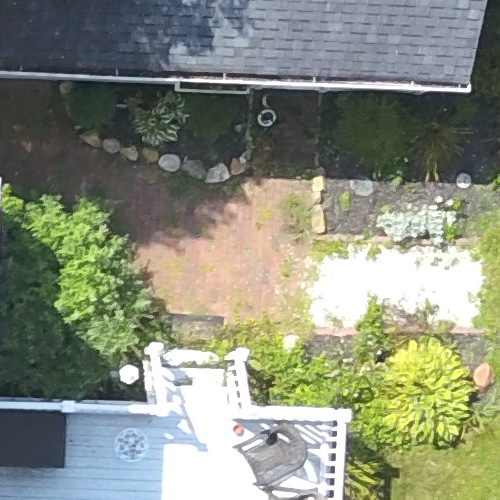porch: (12, 352, 385, 500)
